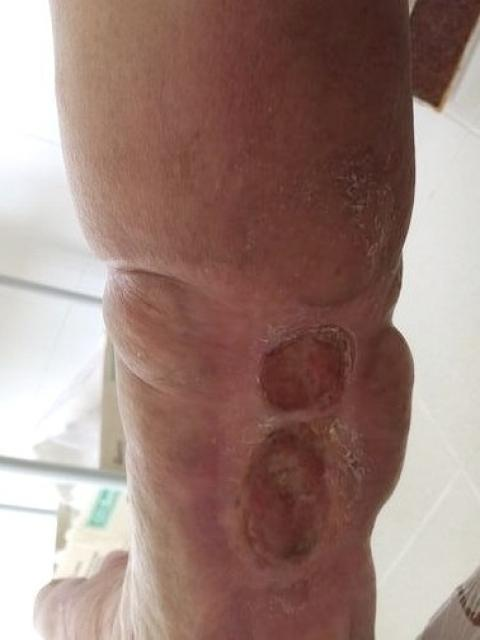wound: (234, 418, 370, 566), (257, 321, 357, 416)
